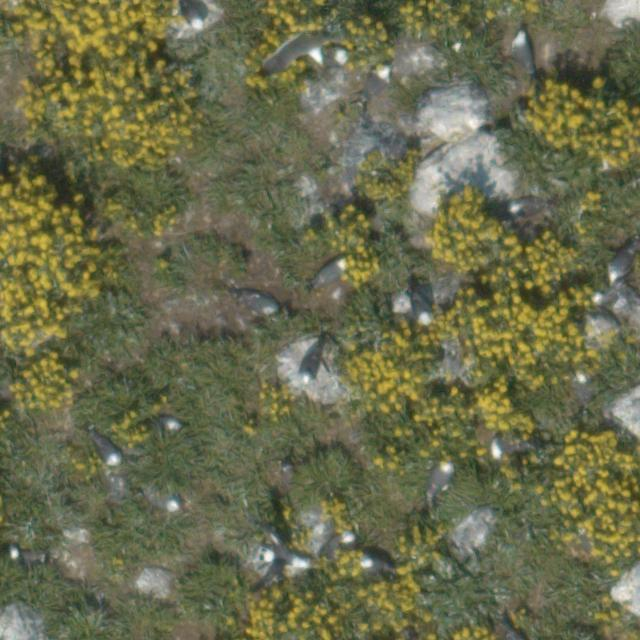F: (260, 514, 309, 590), (263, 35, 323, 71)
umineko: (300, 338, 327, 382), (609, 246, 637, 286), (316, 260, 345, 284), (430, 462, 453, 492), (513, 35, 531, 69), (96, 438, 119, 463), (509, 198, 539, 214), (187, 4, 205, 29), (361, 555, 389, 571), (152, 496, 180, 512), (413, 296, 430, 322), (491, 437, 514, 455), (591, 291, 619, 305), (12, 549, 38, 563), (322, 46, 346, 61), (338, 532, 358, 549), (158, 416, 181, 429)
